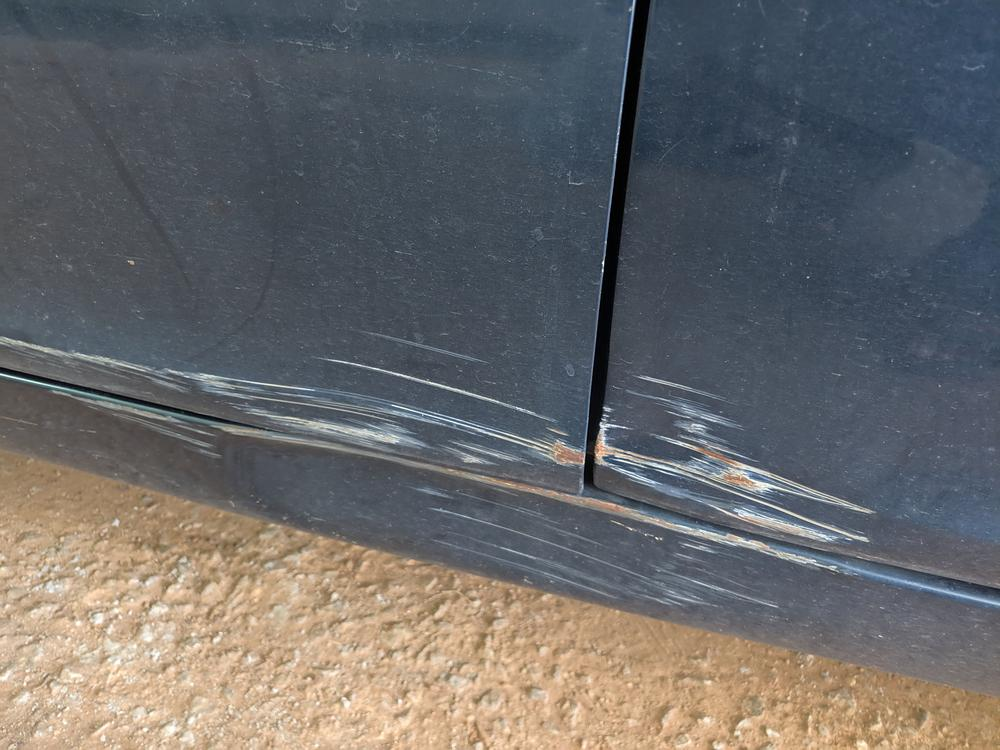scratch: (0, 328, 587, 474), (426, 478, 851, 608), (599, 366, 887, 547), (50, 390, 235, 457)
